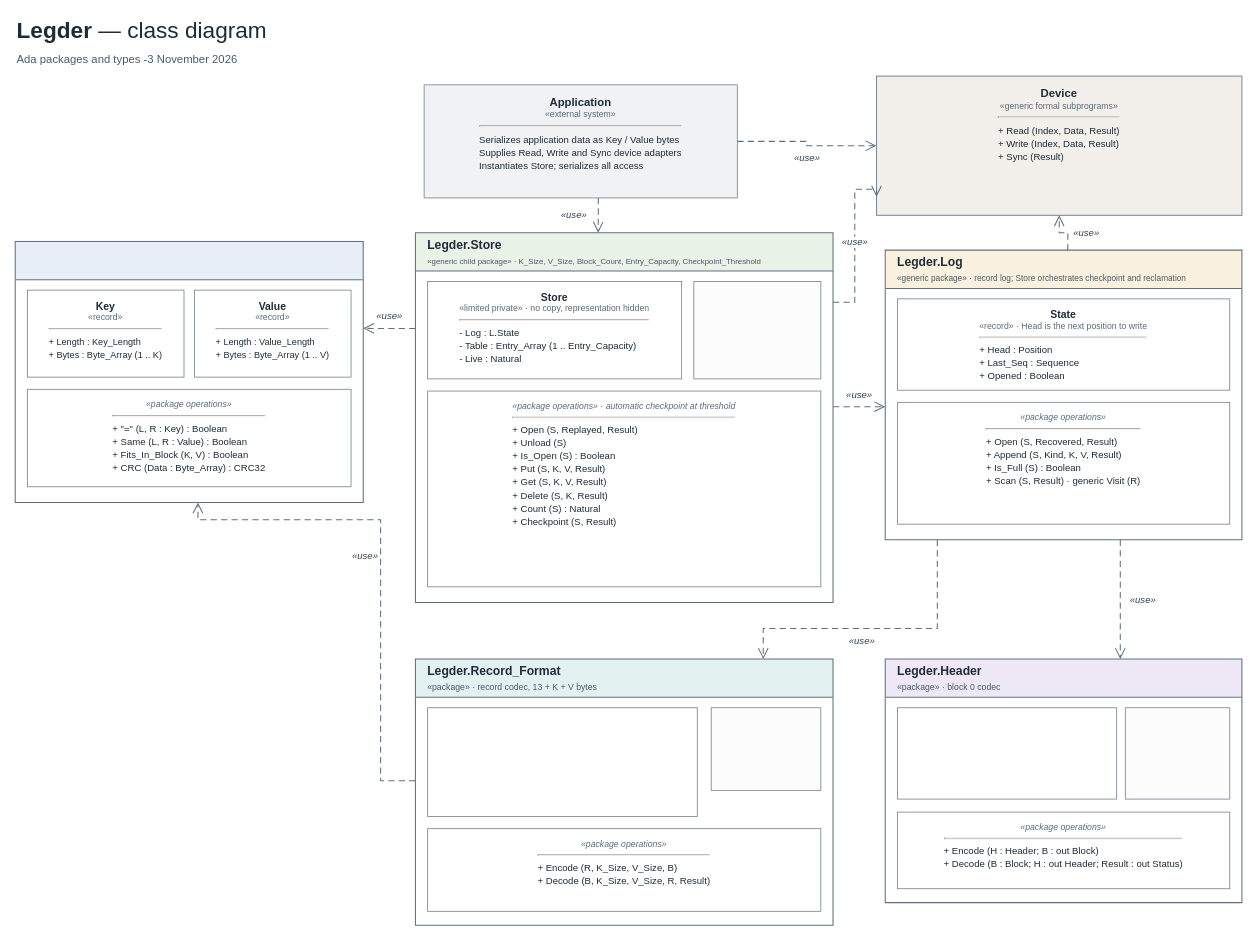
Image size: 1258x940. Some labels were removed from this diagram. Here are the shapes that lost their labels. From the top down, the box of each, then its label:
(693, 281, 821, 379): Entry_Rec «private record» - Live : Boolean - K : Key - V : Value
(14, 240, 363, 503): Legder «package» · root types and helpers
(427, 707, 697, 816): Log_Record «record» + Seq : Sequence + Kind : Op_Kind + K : Key + V : Value
(710, 707, 821, 790): Op_Kind «enumeration» Put Delete
(897, 707, 1117, 799): Header «record» + Version : Version_Number + K : Key_Size + V : Value_Size
(1124, 707, 1230, 799): Status «enumeration» Ok Bad_Header Unsupported_Version
